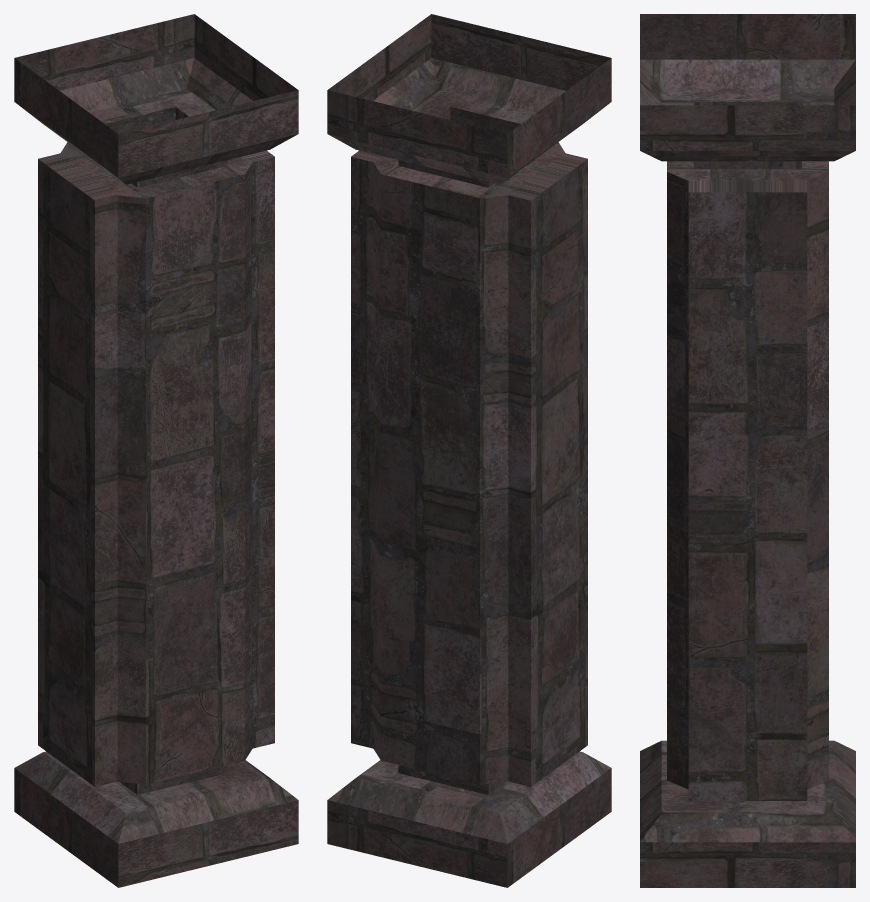
Rendered from Pillar.fbx.
3 views of the same model, side by side, from view 1: azimuth 30°, elevation 25°; view 2: azimuth 150°, elevation 25°; view 3: azimuth 270°, elevation 25° (orthographic). The views are drawn at different scales.
Parts seen in each view (by area): view 1: V, V.001; view 2: V, V.001; view 3: V, V.001.
Part boxes in pixels (left/top/right/bottom): V: left=38, top=142, right=274, bottom=786; V.001: left=14, top=14, right=298, bottom=887; V: left=351, top=142, right=587, bottom=786; V.001: left=327, top=14, right=611, bottom=887; V: left=667, top=161, right=828, bottom=800; V.001: left=640, top=14, right=855, bottom=887.
Size of the model in its own units: 100 by 400 by 100.
